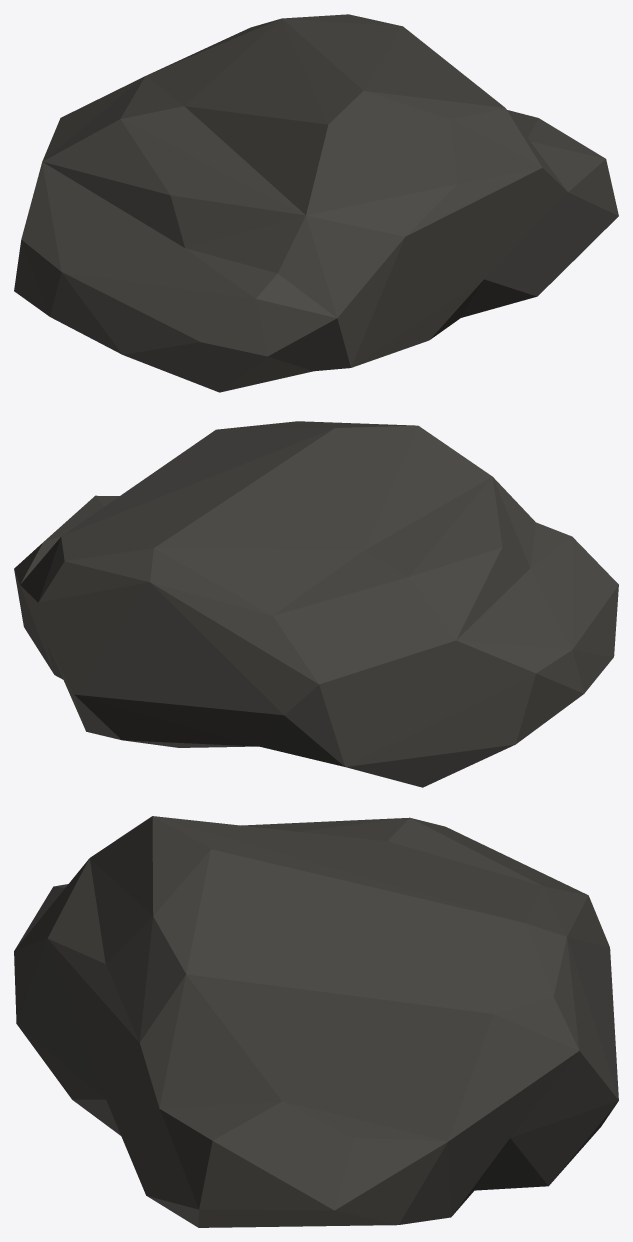
Rendered from SM_Env_Rock_Small_01.fbx.
3 views of the same model, one above another, from view 1: azimuth 30°, elevation 25°; view 2: azimuth 150°, elevation 25°; view 3: azimuth 270°, elevation 25° (orthographic). The views are drawn at different scales.
Visible parts, largest first — view 1: SM_Env_Rock_Small_01; view 2: SM_Env_Rock_Small_01; view 3: SM_Env_Rock_Small_01.
Part boxes in pixels (left/top/right/bottom): SM_Env_Rock_Small_01: left=14, top=14, right=618, bottom=392; SM_Env_Rock_Small_01: left=14, top=421, right=618, bottom=787; SM_Env_Rock_Small_01: left=14, top=816, right=618, bottom=1227.
Size of the model in its own units: 165 by 68.29 by 131.
Materials: 1 (1 with a texture image).
